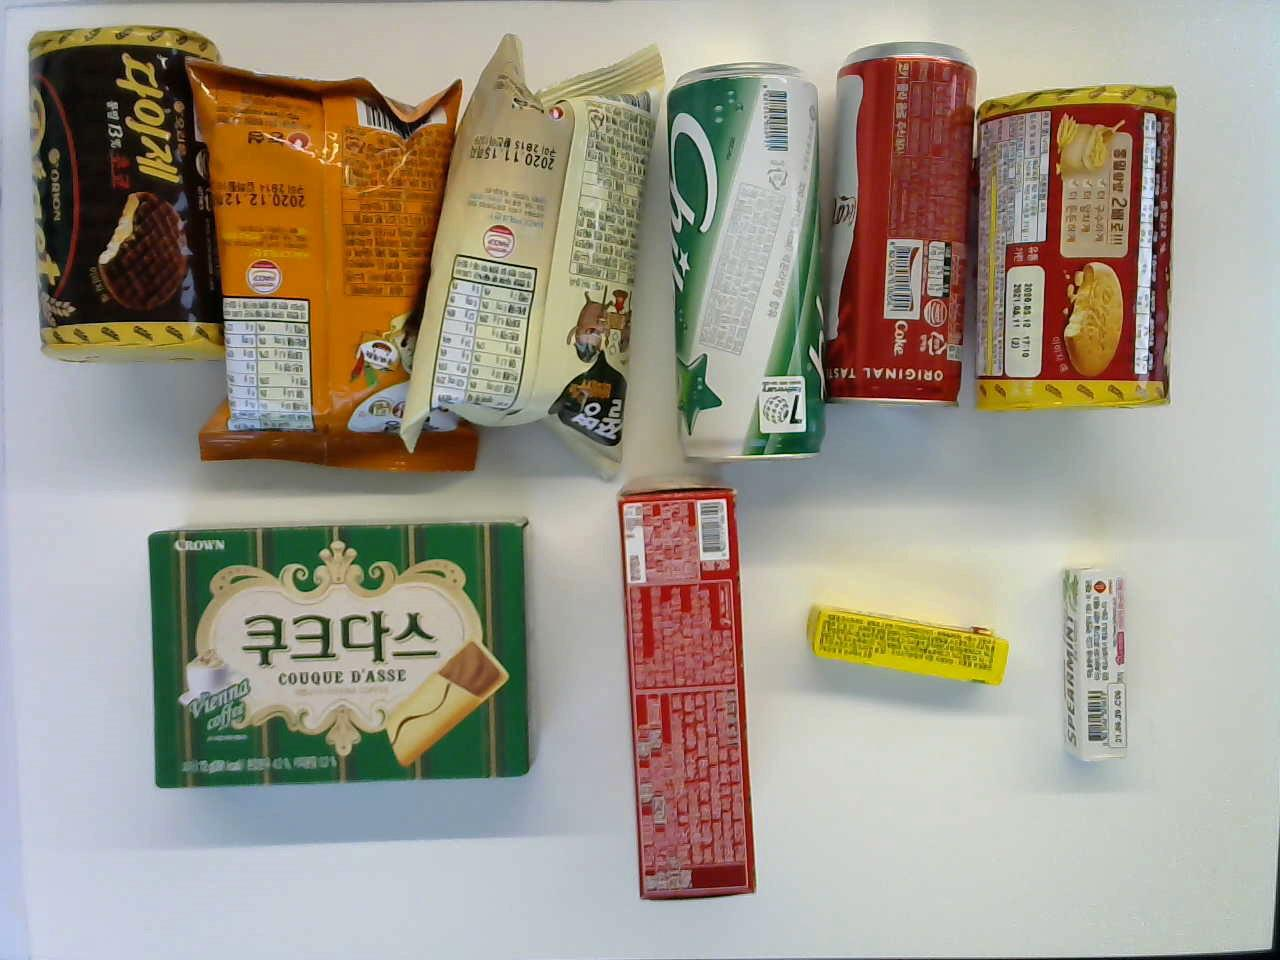cidar: (670, 51, 823, 452)
coke: (814, 39, 983, 408)
couque_coffee: (146, 514, 541, 791)
couque_white: (608, 470, 761, 907)
diget_choco: (22, 22, 226, 359)
diget_ori: (969, 75, 1181, 413)
jjolbyung_noodle: (191, 52, 483, 482)
jjolbyung_ori: (396, 29, 671, 482)
juicyfresh: (801, 597, 1010, 690)
spearmint: (1052, 564, 1131, 766)
